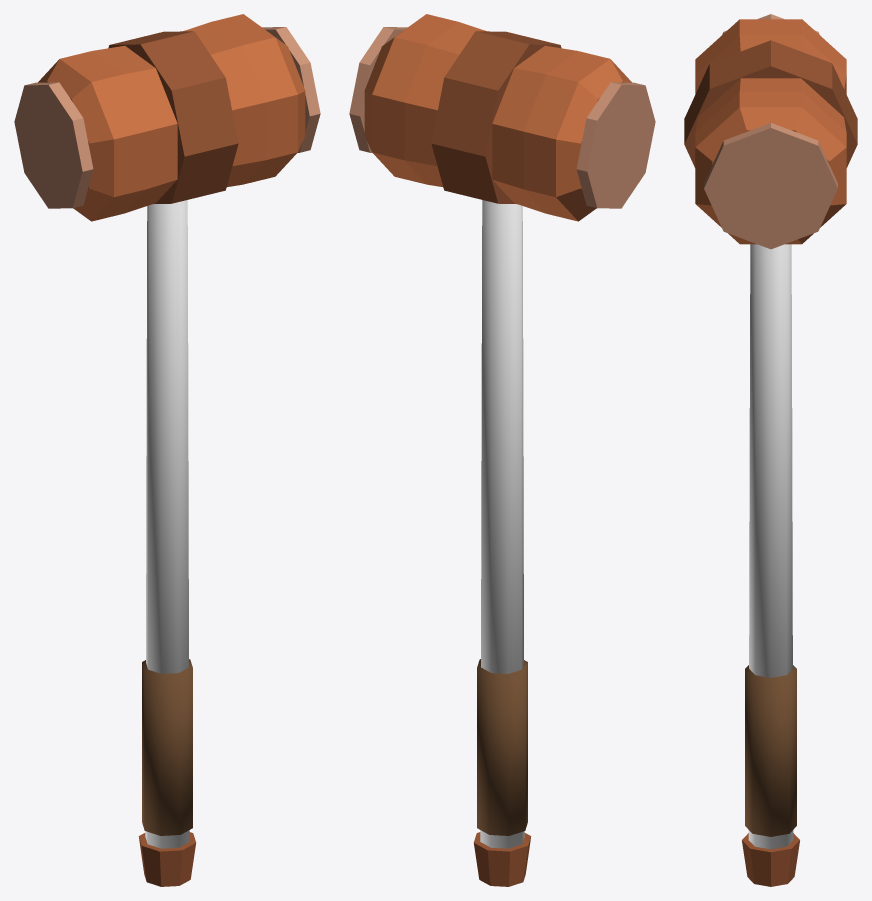
The model's file is copper_hammer.glb.
3 renders of one model, left to right at view 1: azimuth 30°, elevation 25°; view 2: azimuth 150°, elevation 25°; view 3: azimuth 270°, elevation 25°, orthographic.
Parts seen in each view (by area): view 1: copper_hammer_v0; view 2: copper_hammer_v0; view 3: copper_hammer_v0.
Part boxes in pixels (x1,y1,x2,y2): copper_hammer_v0: (14,14,320,886); copper_hammer_v0: (349,14,655,886); copper_hammer_v0: (684,14,857,886).
Bounding box in the file's own units: 0.264 × 0.8898 × 0.1696.
